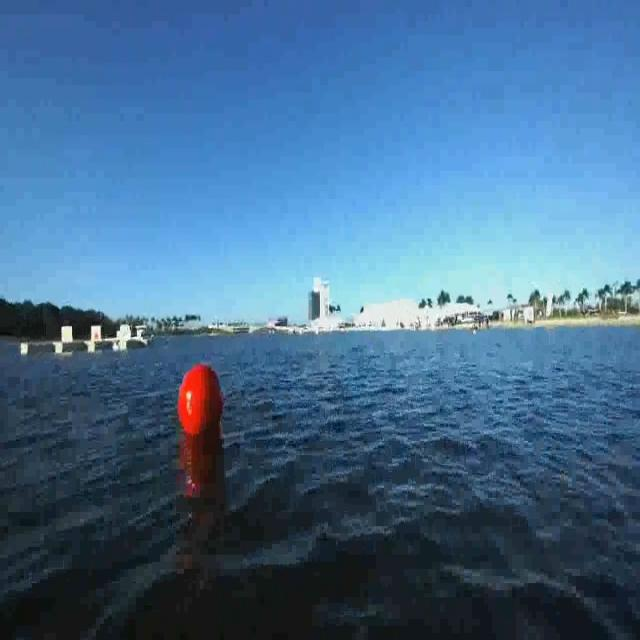red-buoy: (176, 363, 224, 442)
red-dot: (90, 324, 101, 342)
